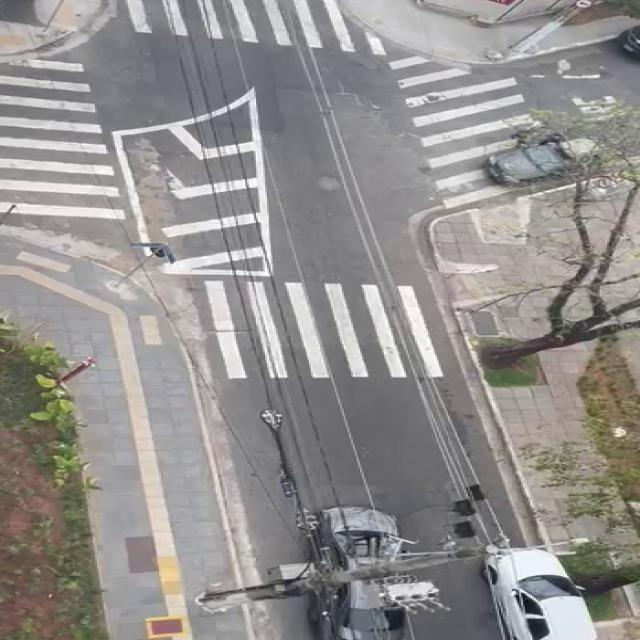car: (307, 501, 424, 640), (478, 547, 626, 640), (472, 136, 615, 194)
